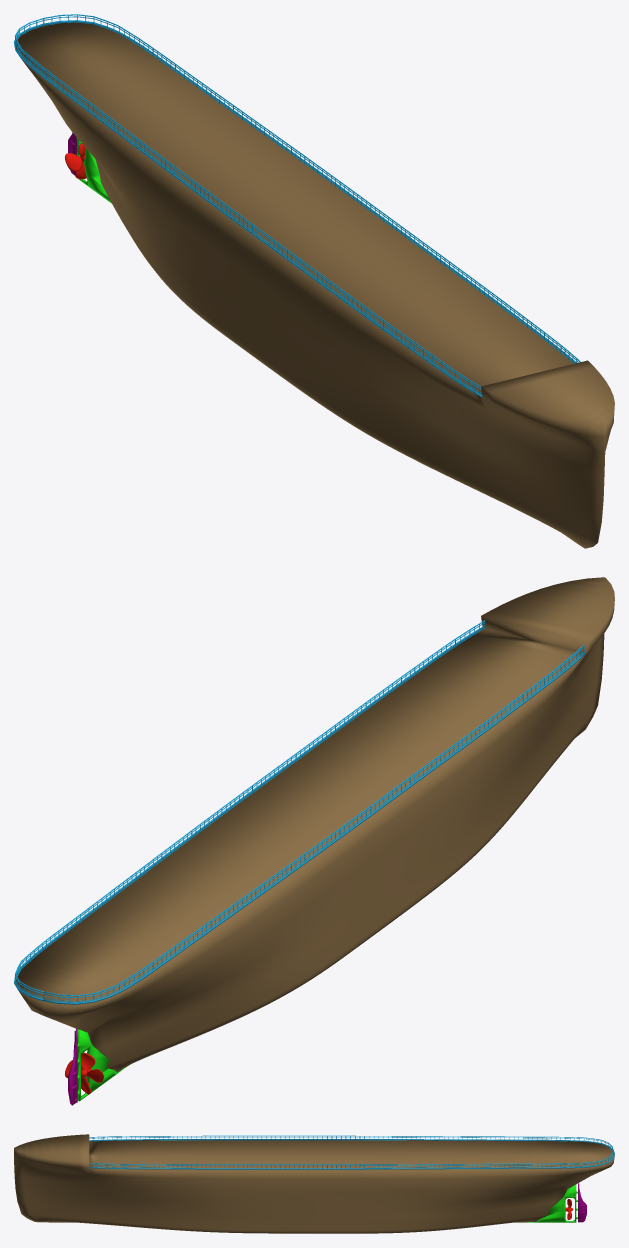
The model's file is AvaMaria1.fbx.
3 renders of one model, top to bottom at view 1: azimuth 30°, elevation 25°; view 2: azimuth 150°, elevation 25°; view 3: azimuth 270°, elevation 25°, orthographic. The views are drawn at different scales.
Visible parts, largest first — view 1: ShipBase; view 2: ShipBase; view 3: ShipBase, ShipRudd.
Boxes of the visible parts, bbox=[...] form: ShipBase: bbox=[14, 14, 614, 548]; ShipBase: bbox=[14, 577, 614, 1101]; ShipBase: bbox=[14, 1134, 614, 1233]; ShipRudd: bbox=[578, 1183, 586, 1222].
Bounding box in the file's own units: 1600 × 1749 × 12792.
